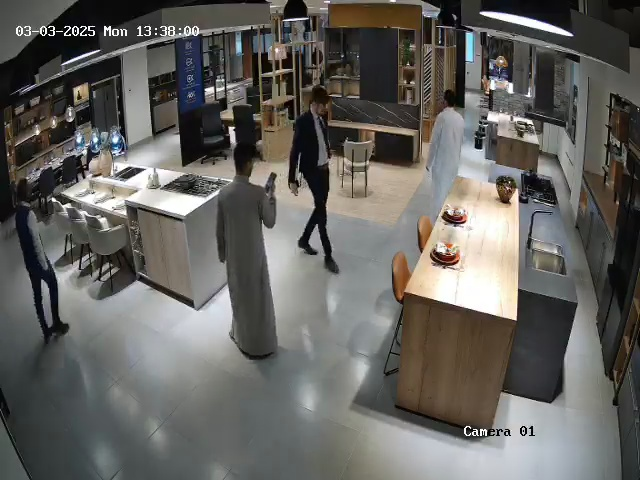employee: (0, 179, 70, 343), (288, 86, 334, 262)
male: (215, 142, 279, 361), (425, 89, 466, 223)
